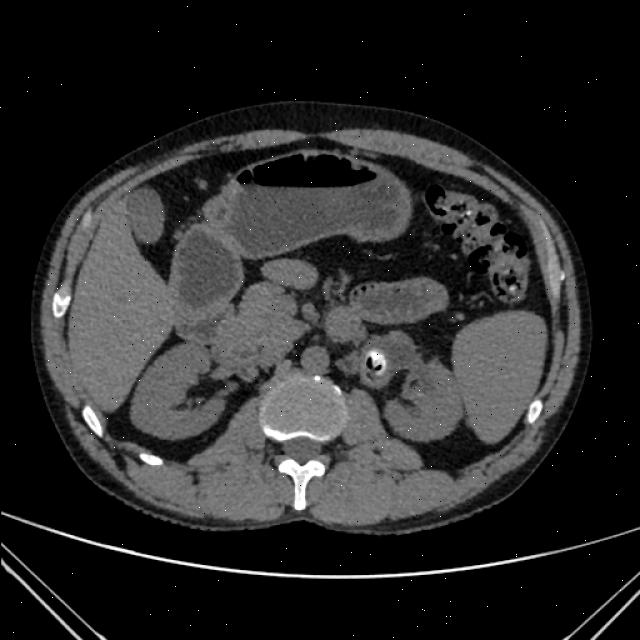kidneystone: (364, 349, 388, 376)
